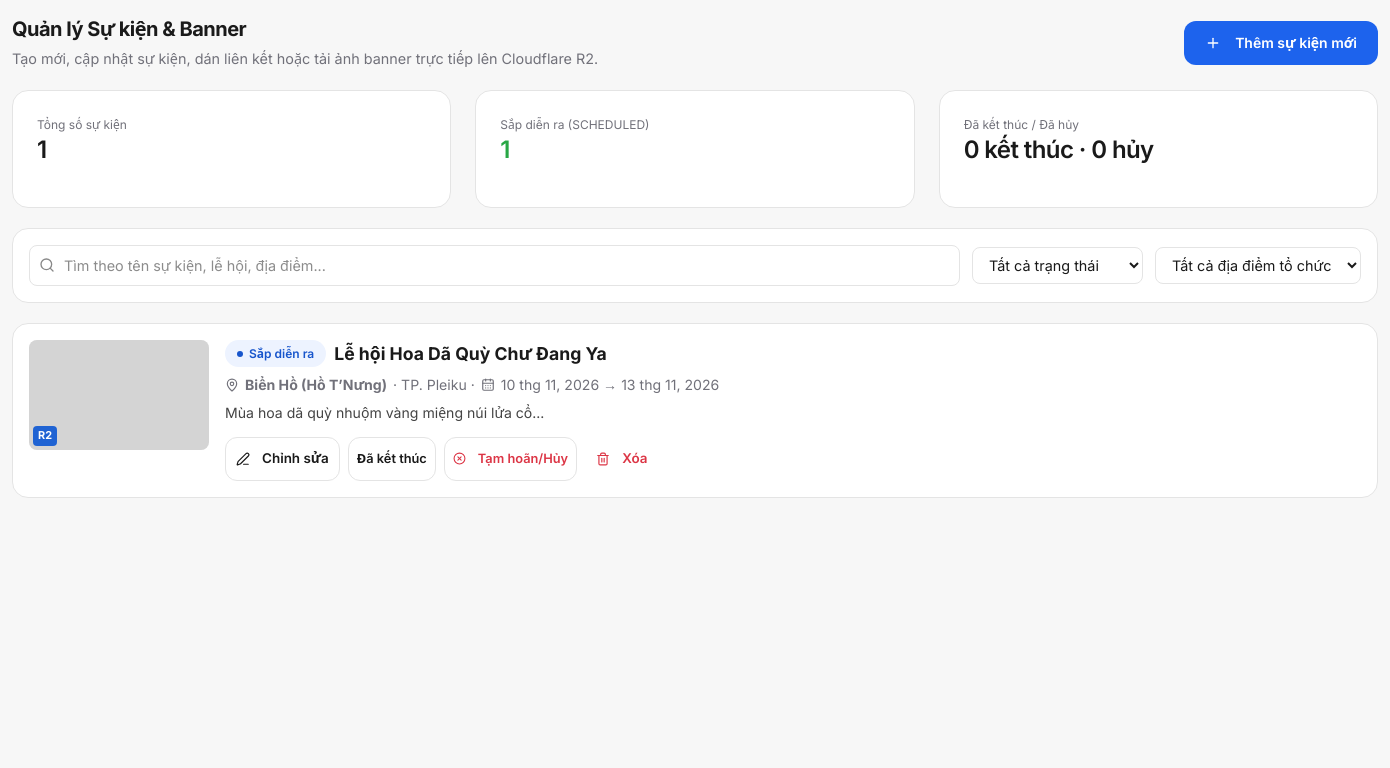
Test case: Admin Events CRUD & Banner Cloudflare R2 (AdminEventsManager) › cho phép đổi nhanh trạng thái sự kiện sang Đã kết thúc
Click the button "Đã kết thúc" at (392, 459), box [348,437,436,481]
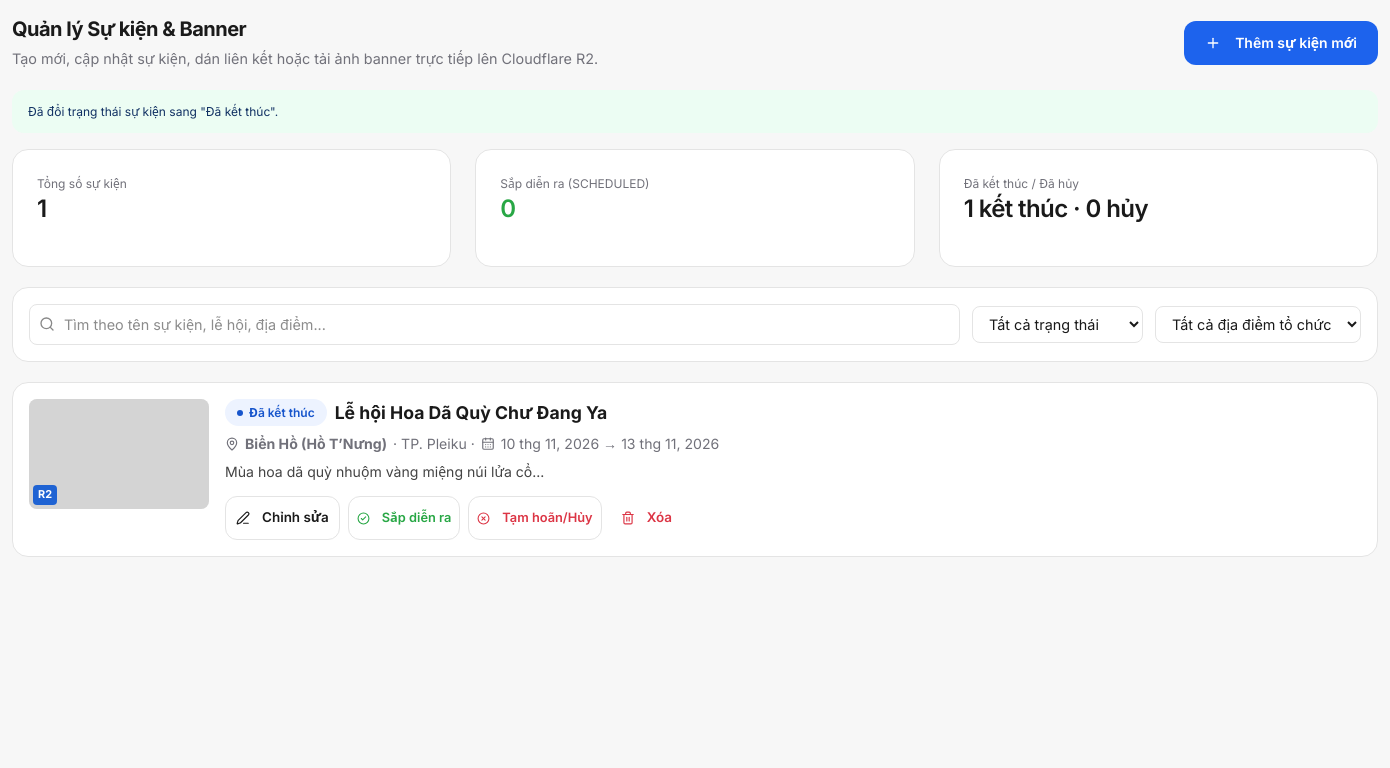
Result: the text "Đã đổi trạng thái sự kiện sang \"Đã kết thúc\"." is shown at [12,90,1378,133]
